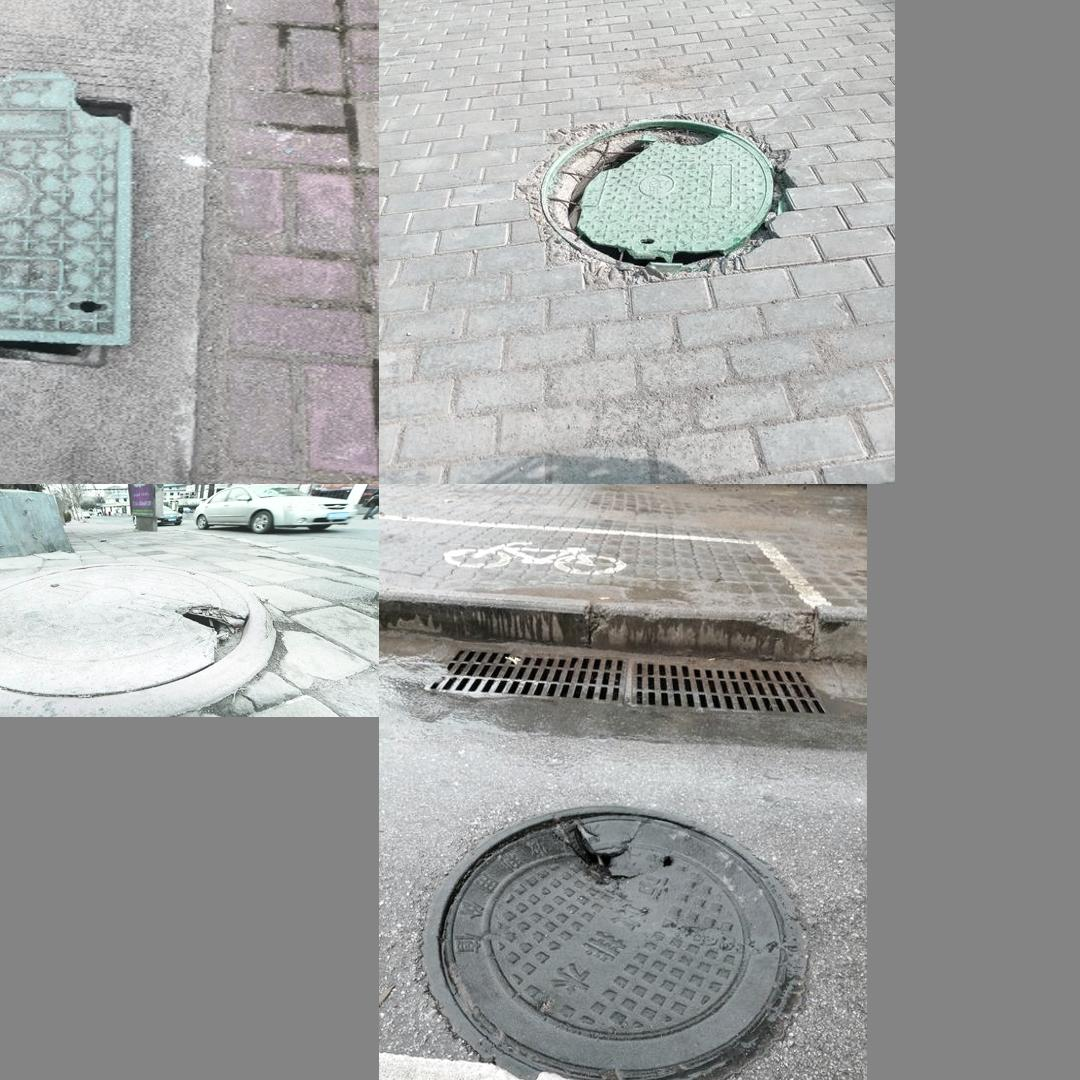broke: (412, 790, 814, 1080), (516, 115, 803, 279), (0, 71, 134, 374), (0, 564, 248, 697)
